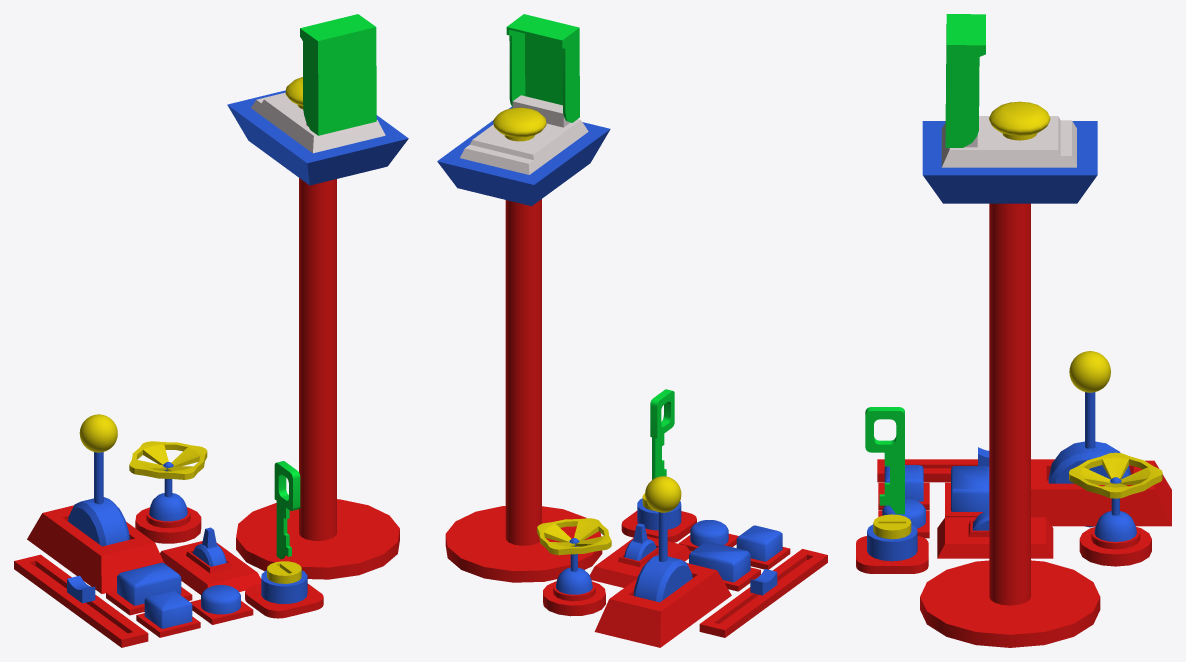
The model's file is Buttons.fbx.
3 renders of one model, left to right at view 1: azimuth 30°, elevation 25°; view 2: azimuth 150°, elevation 25°; view 3: azimuth 270°, elevation 25°, orthographic. The views are drawn at different scales.
Parts seen in each view (by area): view 1: Button07, Button07.002, Button05, Button05.001, Button04, Button06, Button08, Button08.001, Button03.001, Button09.001, Button09.002, Button02.001 (+6 smaller); view 2: Button07, Button07.002, Button05, Button05.001, Button04, Button08, Button08.001, Button06, Button03.001, Button09.001, Button07.001, Button02.001 (+4 smaller); view 3: Button07, Button05, Button07.002, Button05.001, Button08, Button06, Button08.001, Button09.001, Button09.002, Button07.001, Button03.001, Button09 (+3 smaller).
Part boxes in pixels (bbox=[...]): Button07: bbox=[227, 90, 408, 579]; Button07.002: bbox=[300, 14, 376, 135]; Button05: bbox=[27, 505, 163, 593]; Button05.001: bbox=[68, 414, 129, 546]; Button04: bbox=[14, 554, 148, 647]; Button06: bbox=[160, 541, 261, 594]; Button08: bbox=[135, 462, 201, 543]; Button08.001: bbox=[129, 441, 207, 479]; Button03.001: bbox=[117, 562, 181, 605]; Button09.001: bbox=[274, 461, 300, 559]; Button09.002: bbox=[261, 561, 307, 603]; Button02.001: bbox=[144, 591, 192, 628]; Button07: bbox=[437, 95, 610, 582]; Button07.002: bbox=[506, 14, 579, 122]; Button05: bbox=[594, 563, 731, 647]; Button05.001: bbox=[633, 476, 692, 602]; Button04: bbox=[699, 549, 827, 637]; Button08: bbox=[543, 538, 605, 616]; Button08.001: bbox=[537, 518, 611, 555]; Button06: bbox=[589, 536, 690, 587]; Button03.001: bbox=[689, 541, 750, 582]; Button09.001: bbox=[650, 389, 674, 479]; Button07.001: bbox=[493, 107, 546, 141]; Button02.001: bbox=[736, 525, 782, 561]; Button07: bbox=[920, 116, 1100, 647]; Button05: bbox=[1031, 460, 1171, 526]; Button07.002: bbox=[945, 14, 985, 147]; Button05.001: bbox=[1048, 351, 1130, 527]; Button08: bbox=[1079, 477, 1151, 566]; Button06: bbox=[937, 517, 1053, 558]; Button08.001: bbox=[1069, 452, 1162, 498]; Button09.001: bbox=[865, 407, 904, 514]; Button09.002: bbox=[867, 514, 917, 561]; Button07.001: bbox=[989, 101, 1050, 140]; Button03.001: bbox=[951, 466, 989, 511]; Button09: bbox=[856, 536, 928, 573].
Size of the model in its own units: 165 by 259 by 126.
